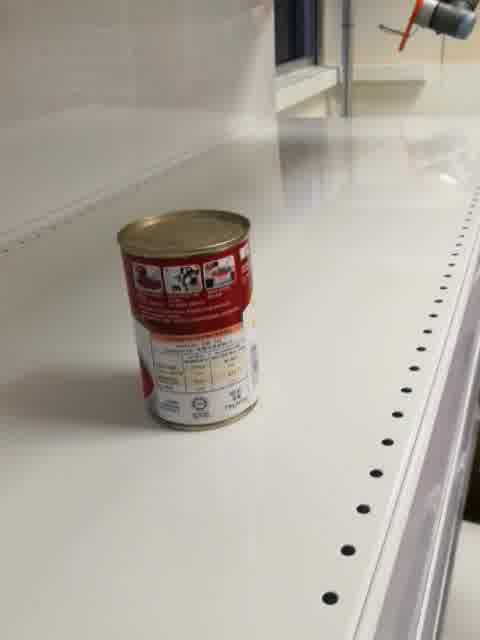tomatosoup: (115, 205, 261, 432)
